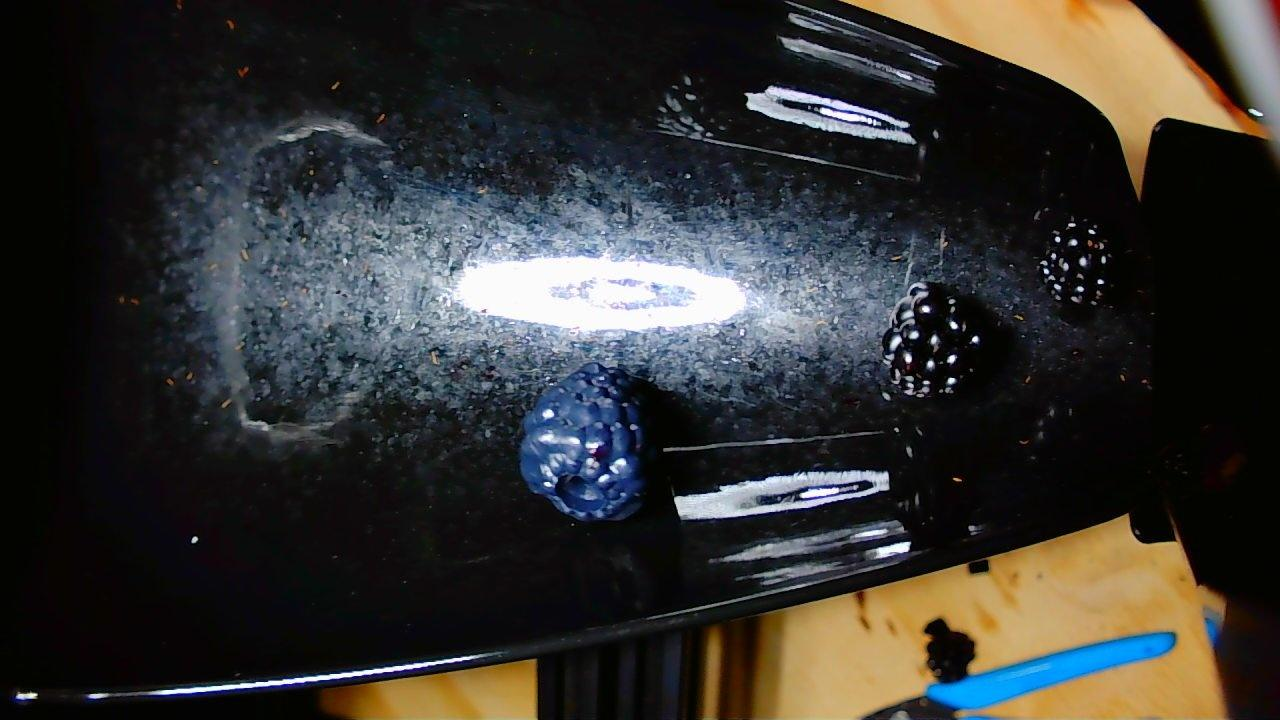berry: (520, 363, 656, 520), (882, 283, 982, 396), (1039, 220, 1111, 305)
